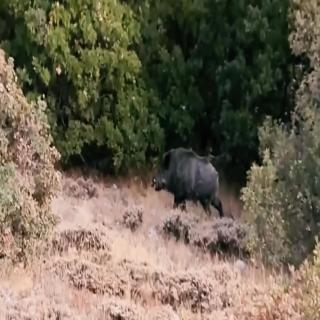Pig: (155, 134, 221, 220)
